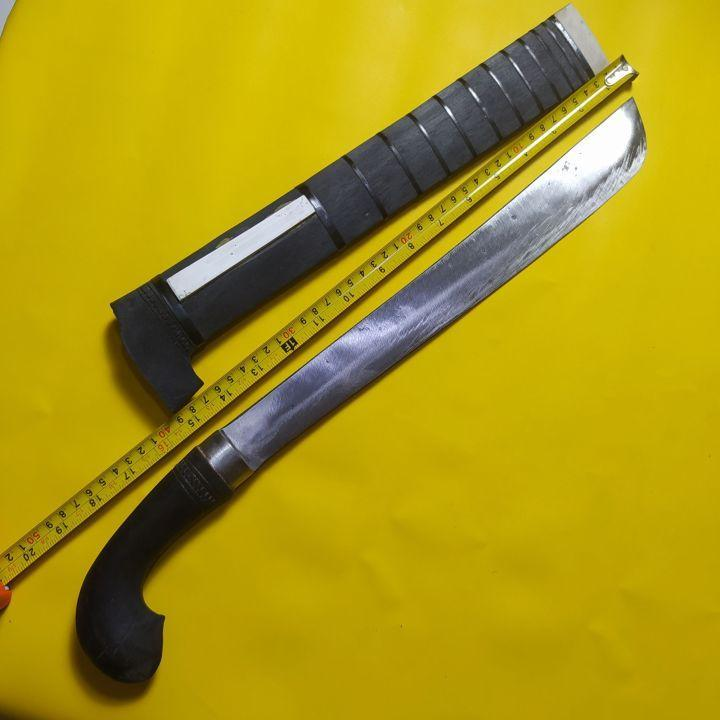facao: (71, 99, 646, 697)
